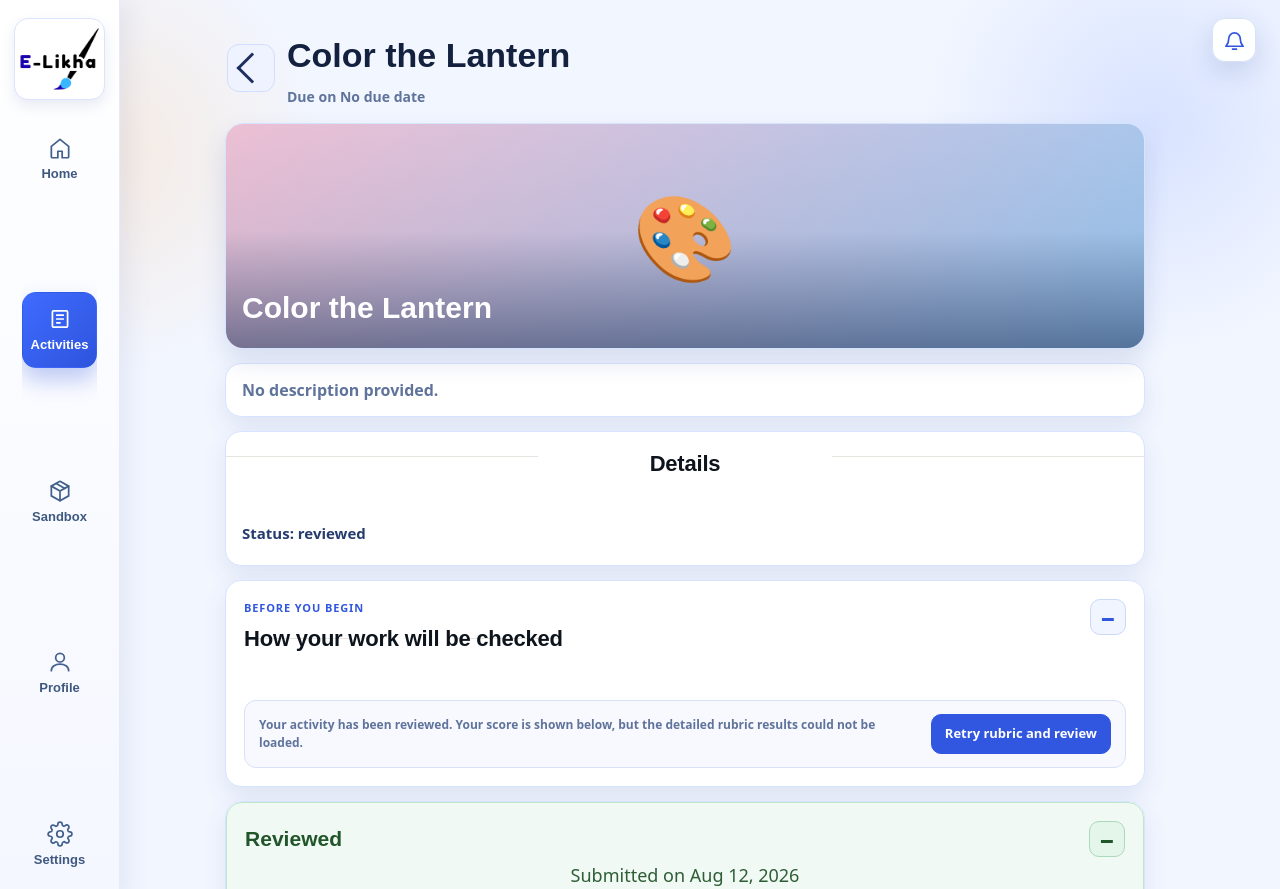
Test: student ActivityDetails AR guide › keeps a confirmed score visible when rubric loading fails and retries the detailed result
Click the button with class "activity-rubric-retry" at (1021, 734), box [931,714,1111,754]
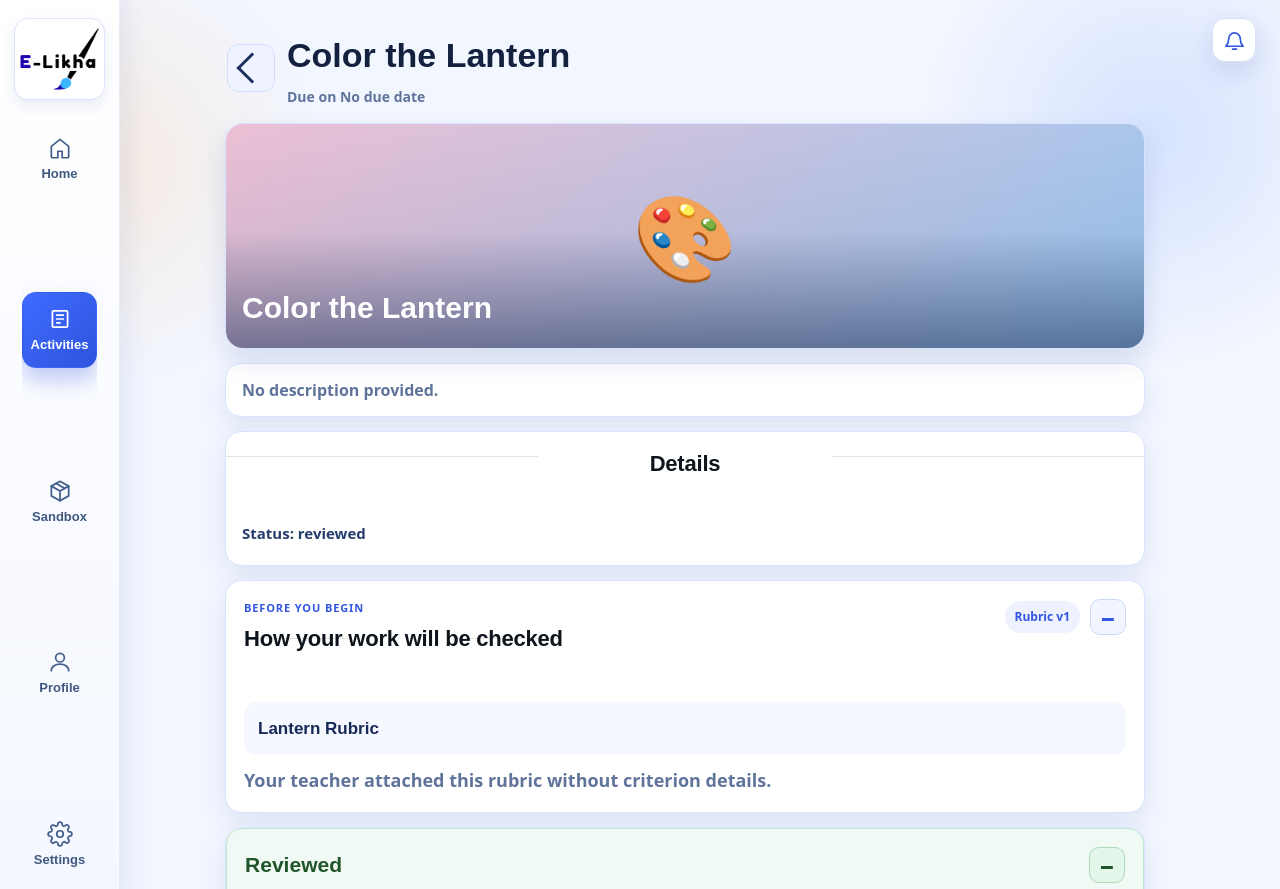
Expected: the text "Lantern Rubric" is shown, [258,719,379,738]
Expected: the button with class "activity-rubric-retry" is gone
